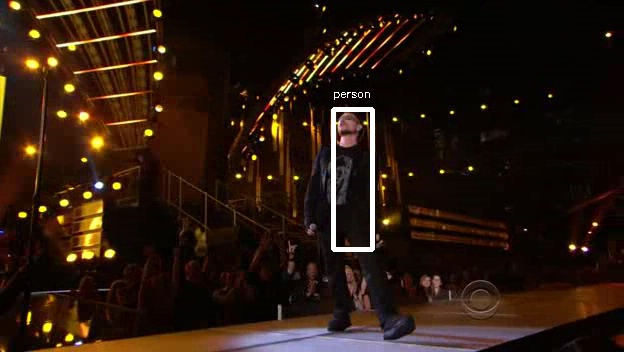person: (308, 111, 377, 241), (305, 111, 374, 241), (311, 111, 380, 241), (308, 108, 377, 238), (308, 114, 377, 244)
target_negative: (392, 180, 530, 344), (480, 110, 553, 237), (44, 15, 522, 27), (120, 7, 139, 134), (377, 82, 390, 220), (393, 221, 420, 235)
